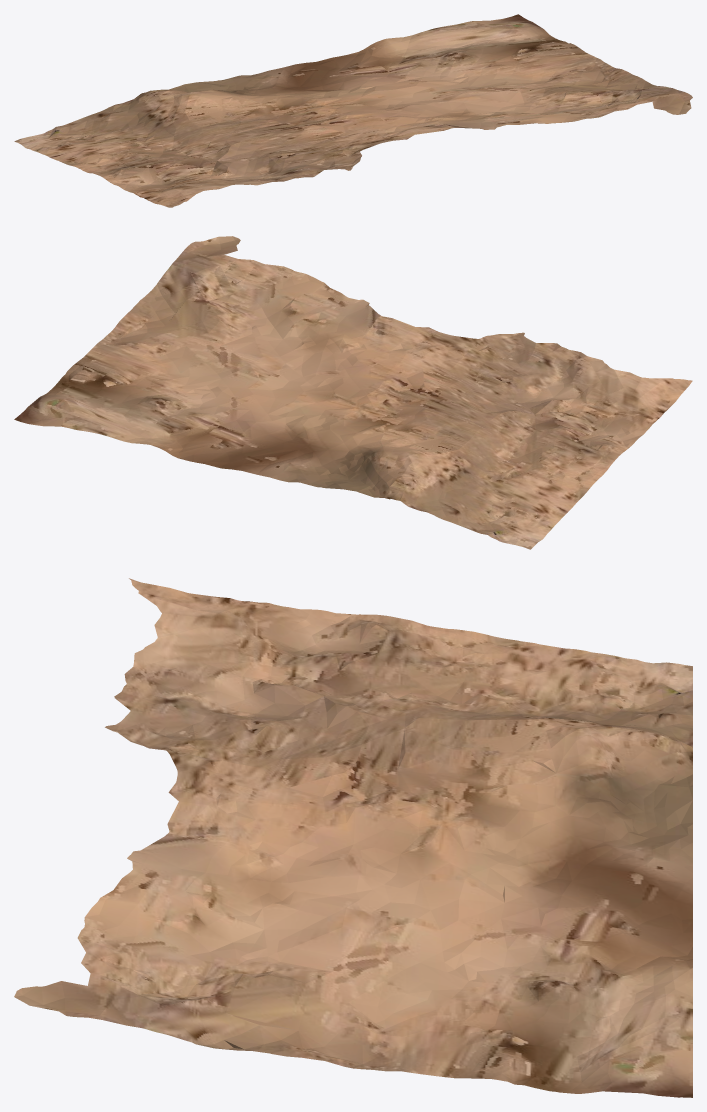
The picture shows the model from 3 angles, top to bottom: view 1: azimuth 30°, elevation 25°; view 2: azimuth 150°, elevation 25°; view 3: azimuth 270°, elevation 25°; orthographic projection. The views are drawn at different scales.
Bounding box in the file's own units: 2.09 × 0.1955 × 1.37.
Materials: 2 (2 with a texture image).
